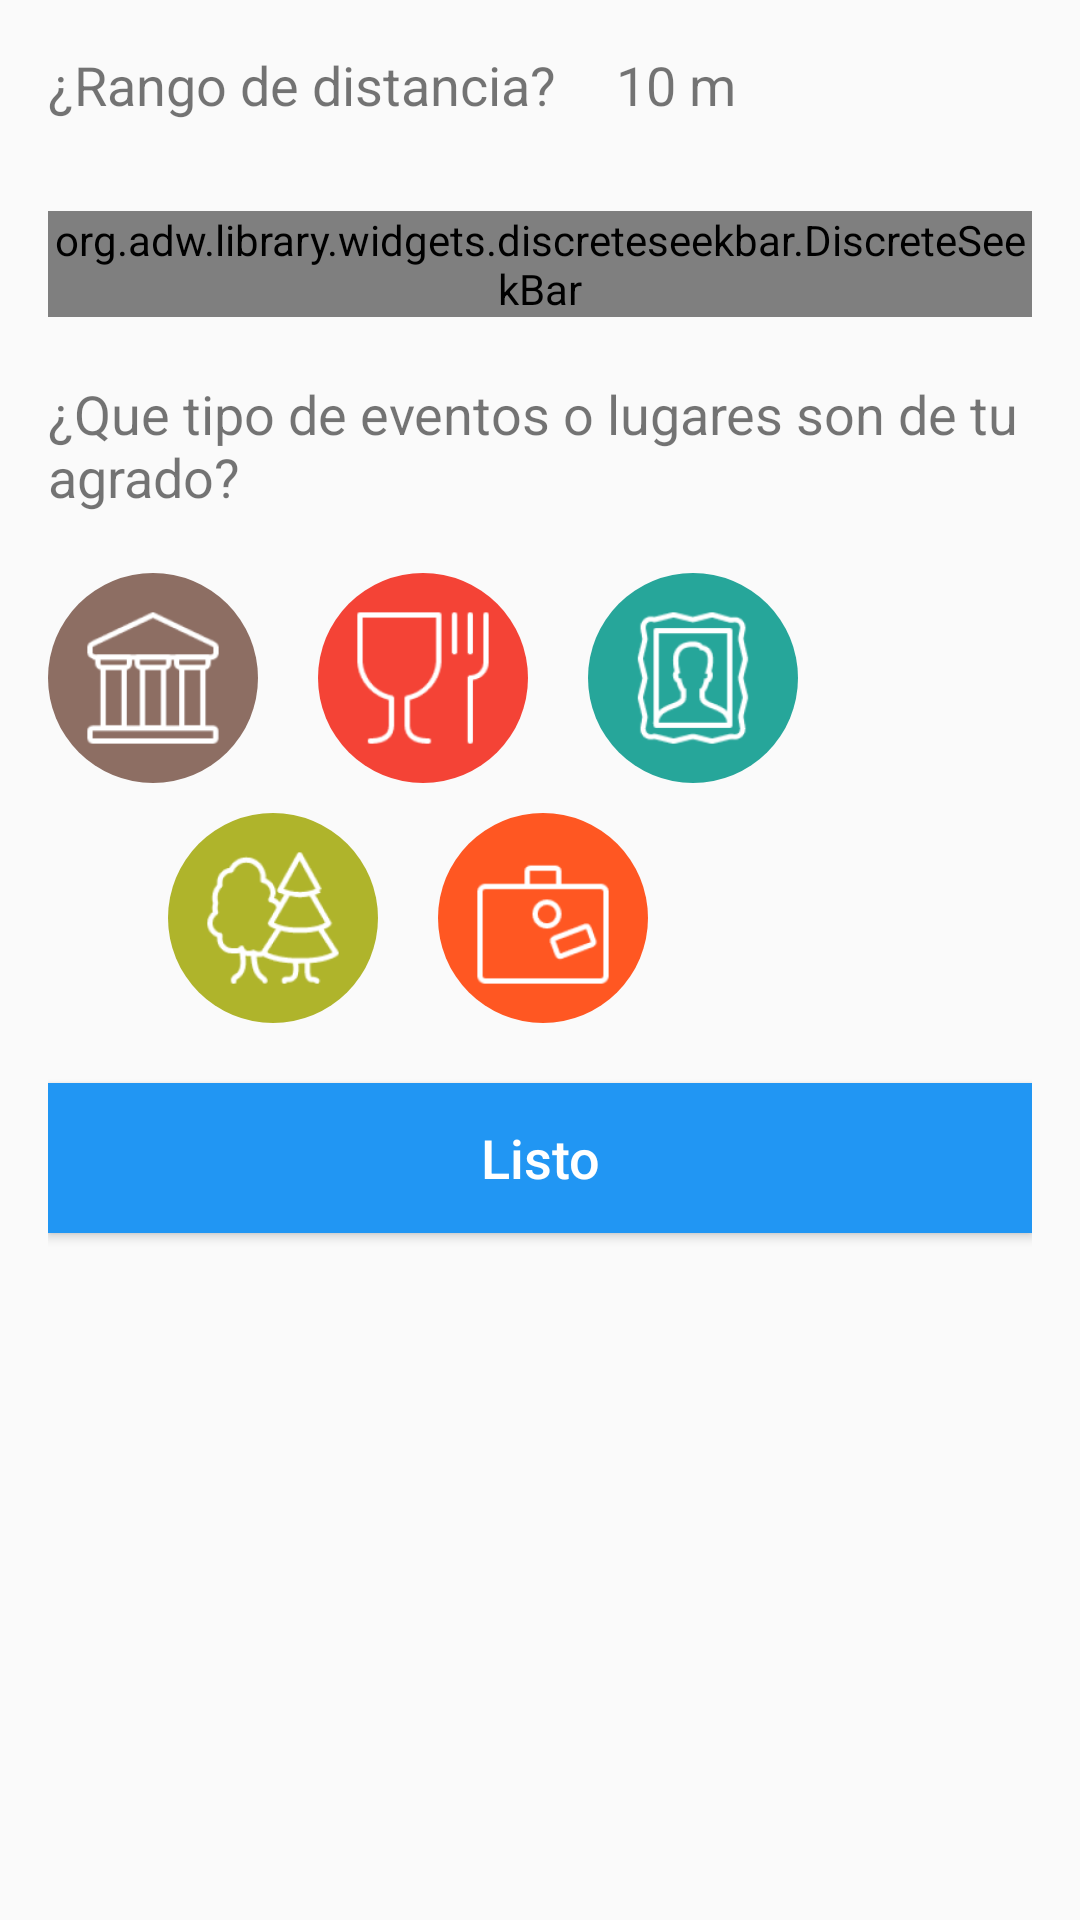

Icon click points for this 1080 × 1920 phone screenshot, format [x,y]:
food: [423,678]
park: [273,918]
tourist: [543,918]
